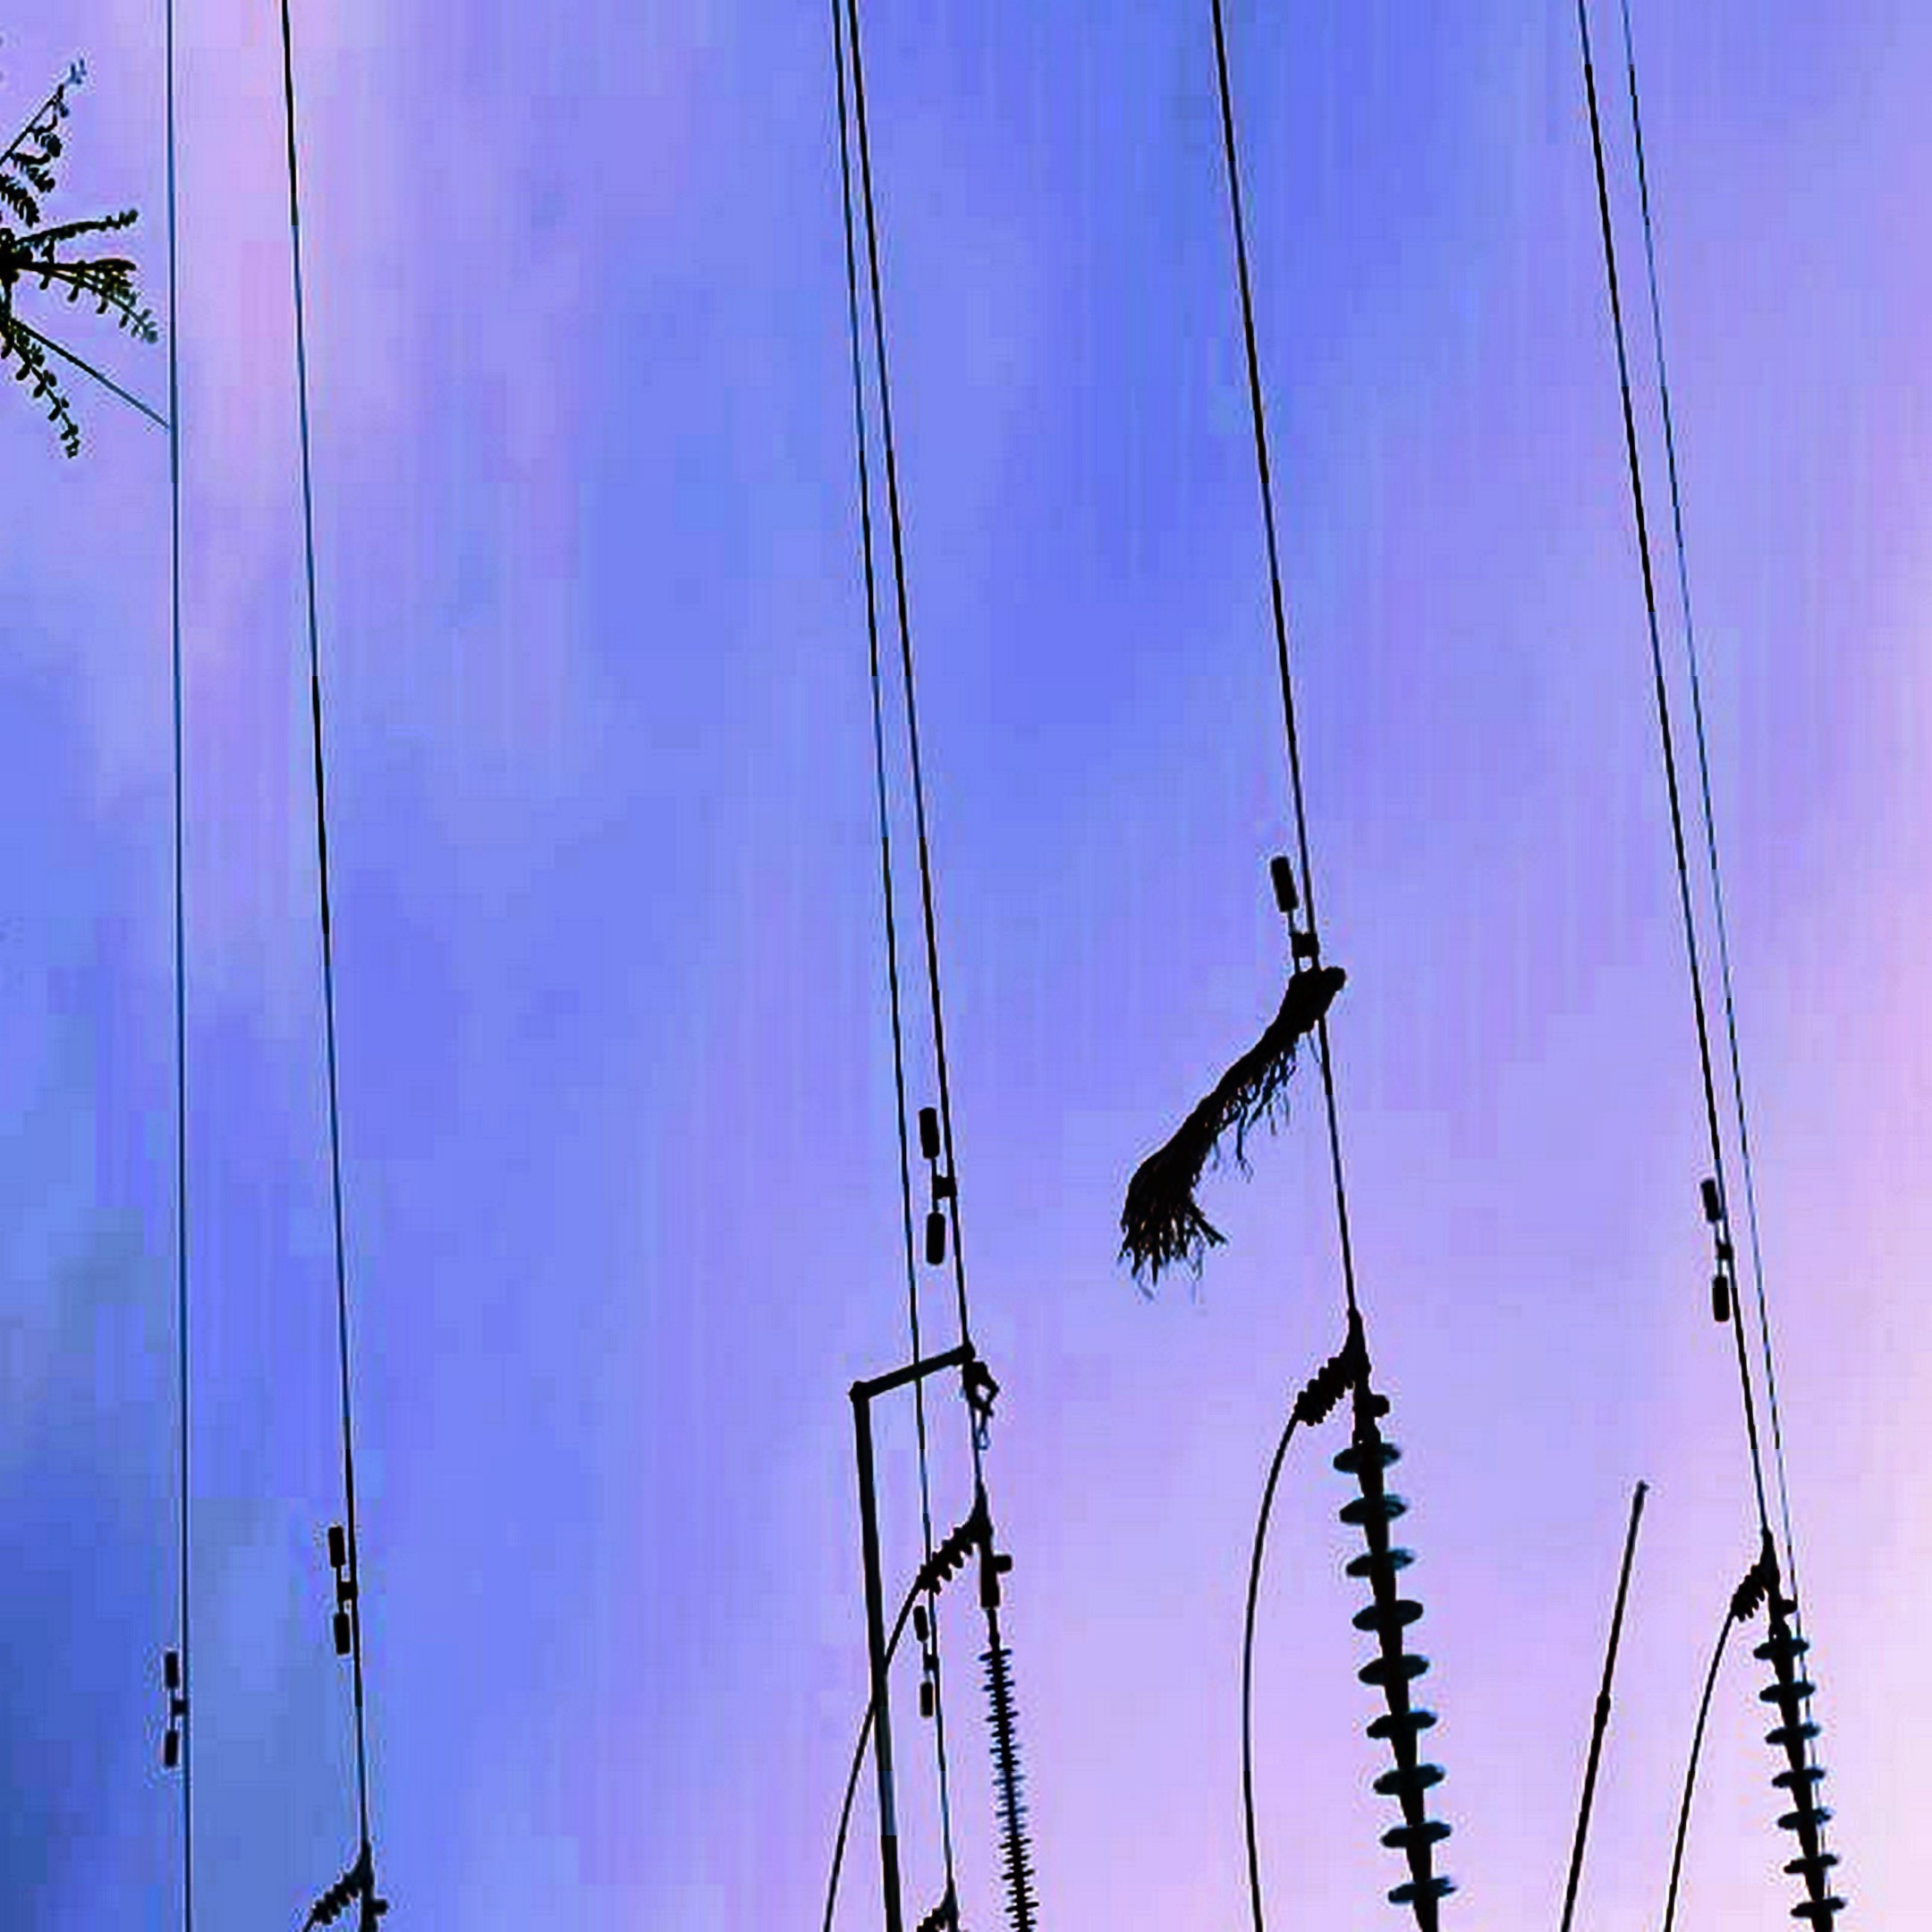wire foreign body: (1111, 938, 1384, 1283)
